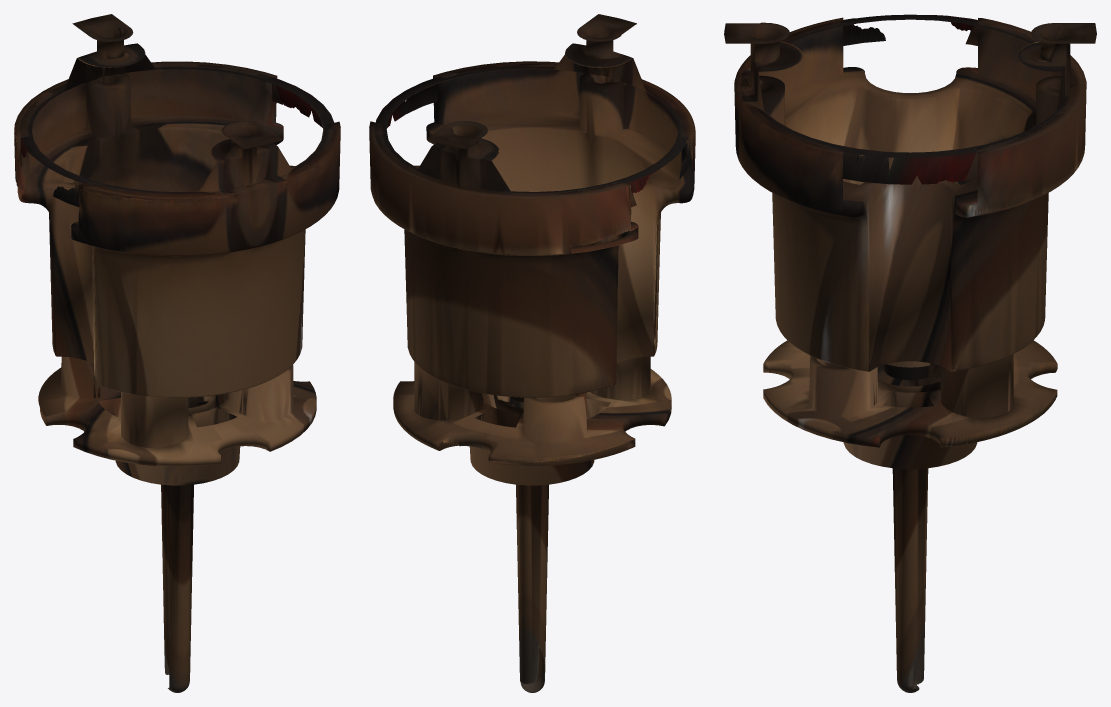
Rendered from bumpc002.fbx.
3 views of the same model, side by side, from view 1: azimuth 30°, elevation 25°; view 2: azimuth 150°, elevation 25°; view 3: azimuth 270°, elevation 25° (orthographic). The views are drawn at different scales.
Visible parts, largest first — view 1: bumpc002; view 2: bumpc002; view 3: bumpc002.
Part boxes in pixels (x1,y1,x2,y2): bumpc002: [14, 14, 340, 692]; bumpc002: [369, 14, 695, 692]; bumpc002: [724, 14, 1096, 692].
Bounding box in the file's own units: 4.03 × 8.55 × 4.39.
1 material, 1 textured.
